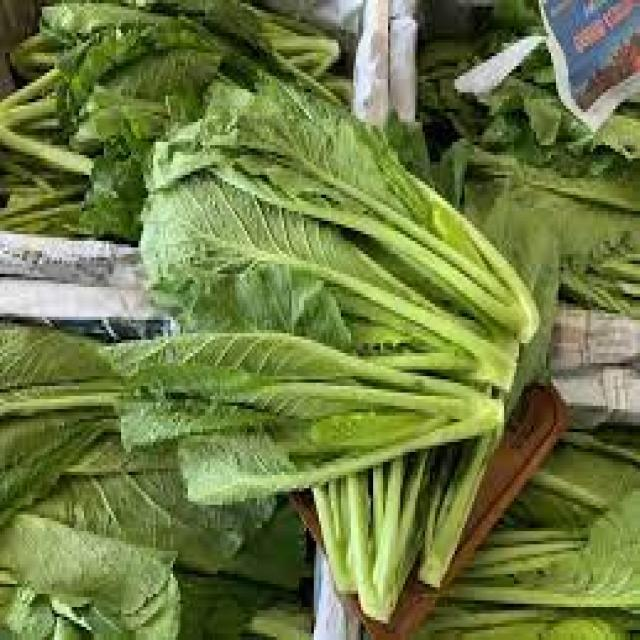bokchoy: (142, 88, 535, 509)
